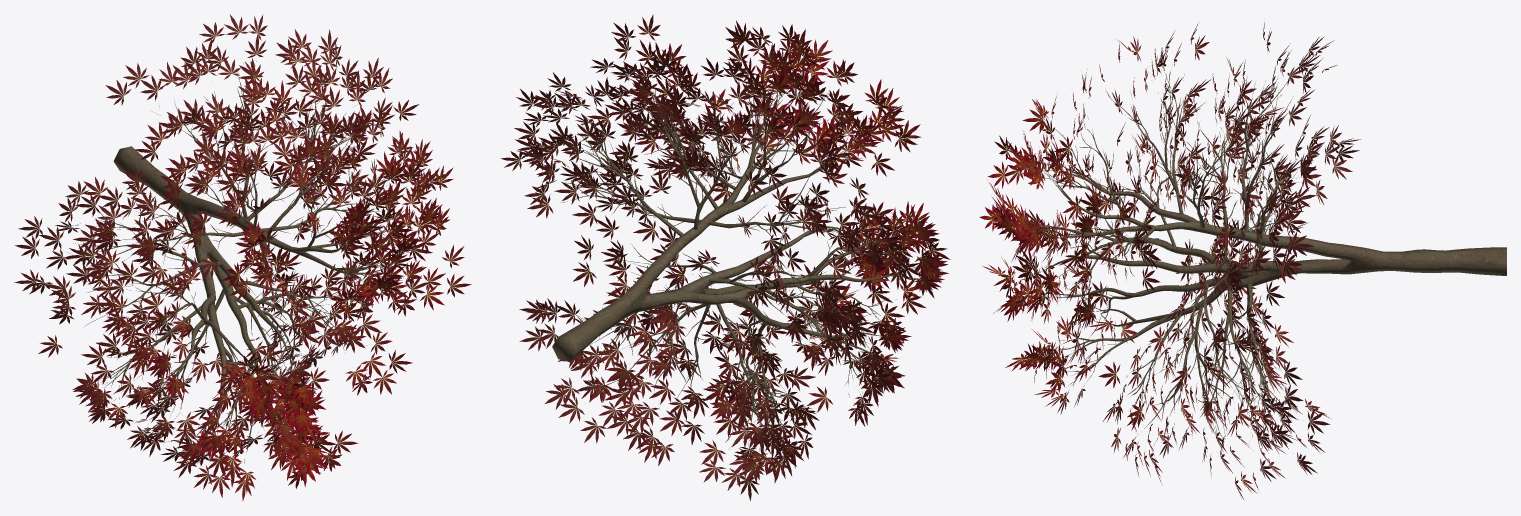
File: tree_jmaple.glb
3 renders of one model, left to right at view 1: azimuth 30°, elevation 25°; view 2: azimuth 150°, elevation 25°; view 3: azimuth 270°, elevation 25°, orthographic. The views are drawn at different scales.
Bounding box in the file's own units: 3.49 × 3.67 × 3.96.
2 materials, 2 textured.
